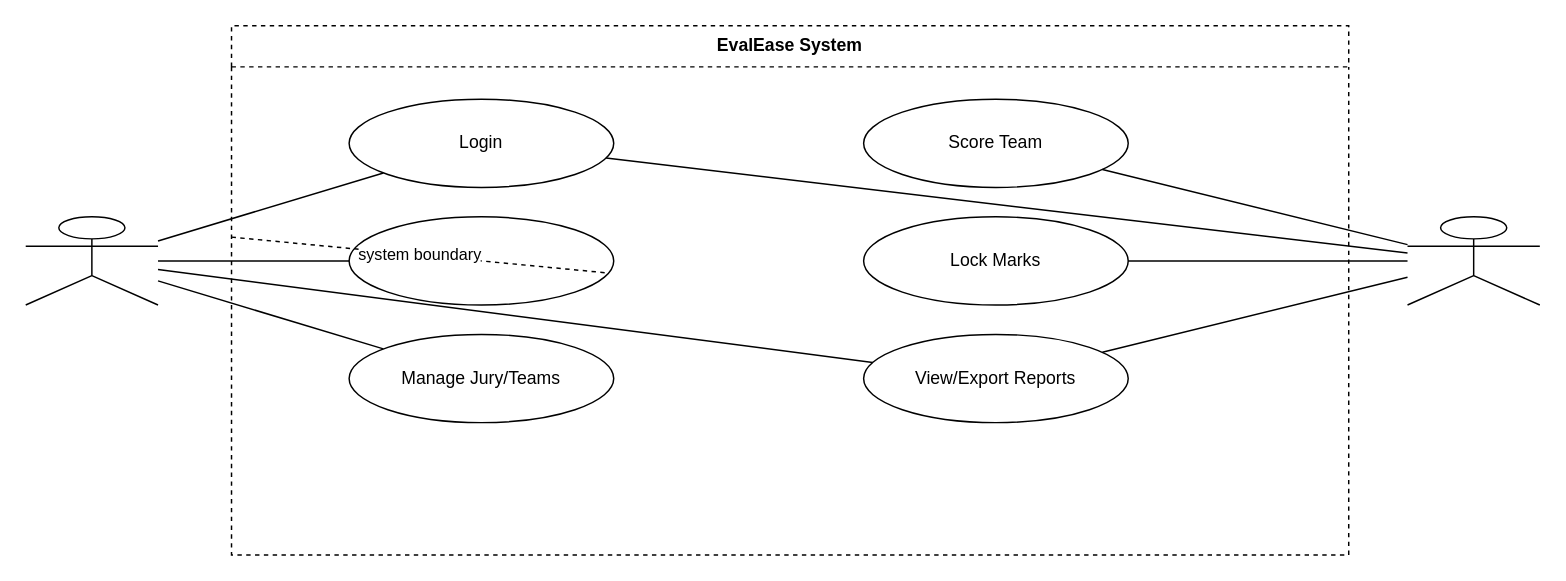
The diagram is 1566 pixels wide and 581 high, and some of its shapes have lost their labels. Each missing label, with the centre of its shape:
Admin: pixel 91 260
Jury: pixel 1473 260
Manage Session: pixel 481 260
